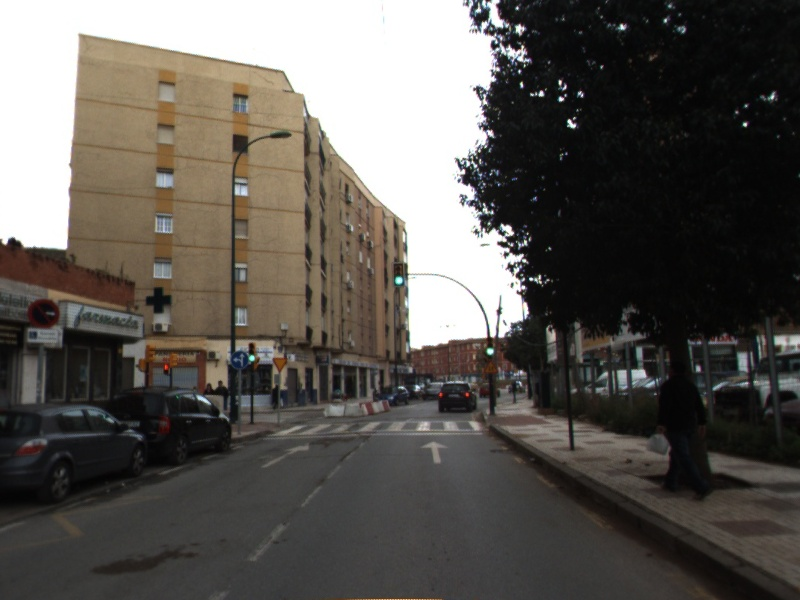STRAIGHT: (259, 440, 311, 470), (418, 439, 451, 465)
